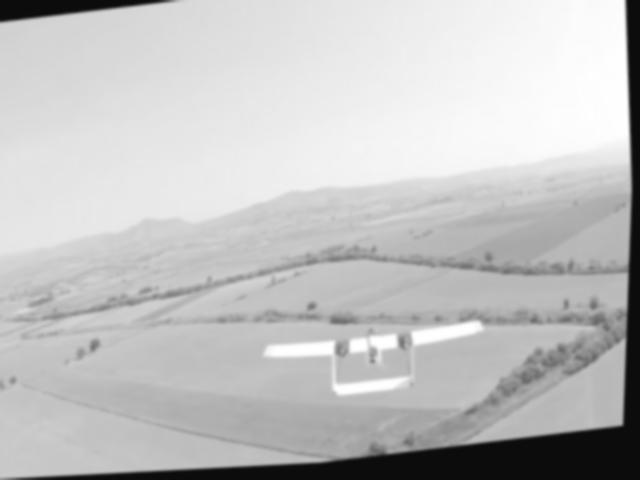hedef: (259, 309, 489, 414)
